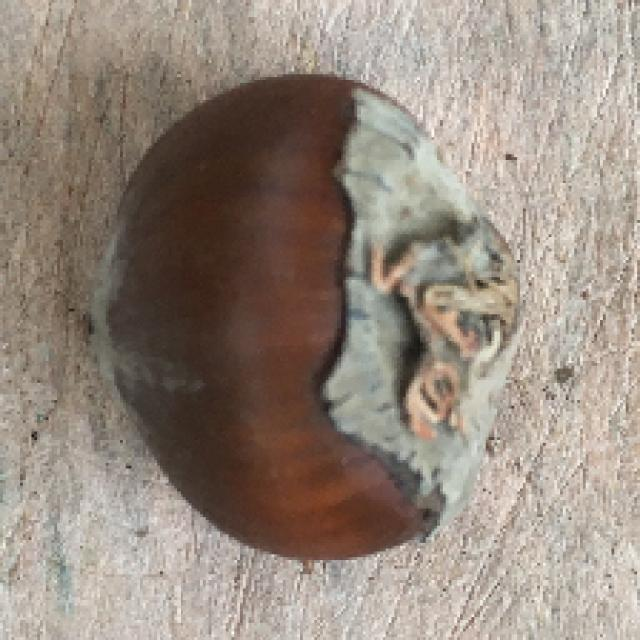damagedHazelnut: (101, 75, 519, 561)
